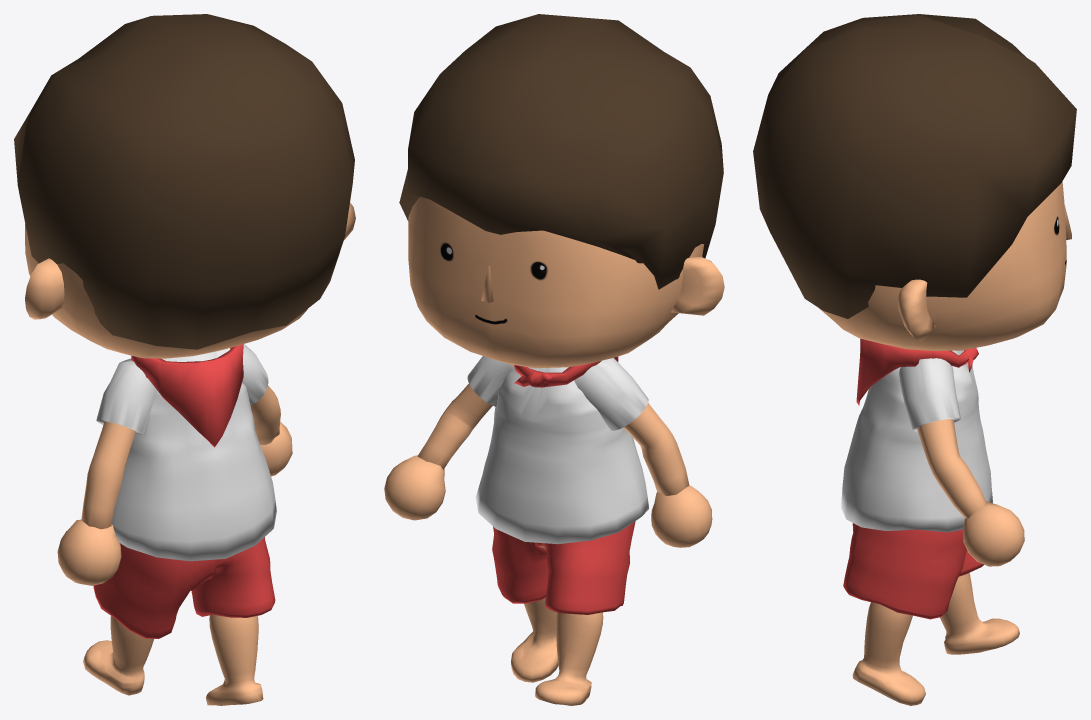
File: run.fbx
3 views of the same model, side by side, from view 1: azimuth 30°, elevation 25°; view 2: azimuth 150°, elevation 25°; view 3: azimuth 270°, elevation 25° (orthographic). The views are drawn at different scales.
Visible parts, largest first — view 1: HAIR, TSHIRT, SHORT, leg, HEAD, bandana, ARM, HAND, PAKO, PAKO2; view 2: HAIR, HEAD, TSHIRT, SHORT, leg, HAND, ARM, PAKO, PAKO2, bandana; view 3: HAIR, HEAD, TSHIRT, SHORT, leg, ARM, PAKO2, HAND, bandana.
Part boxes in pixels (bbox=[...]): HAIR: bbox=[14, 14, 354, 349]; TSHIRT: bbox=[112, 351, 276, 561]; SHORT: bbox=[93, 537, 275, 638]; leg: bbox=[83, 614, 263, 705]; HEAD: bbox=[25, 202, 355, 358]; bandana: bbox=[131, 344, 243, 447]; ARM: bbox=[81, 385, 280, 529]; HAND: bbox=[57, 421, 292, 585]; PAKO: bbox=[96, 358, 156, 435]; PAKO2: bbox=[216, 344, 268, 404]; HAIR: bbox=[399, 14, 723, 289]; HEAD: bbox=[408, 197, 724, 368]; TSHIRT: bbox=[475, 367, 648, 544]; SHORT: bbox=[492, 521, 635, 614]; leg: bbox=[511, 546, 603, 705]; HAND: bbox=[384, 455, 712, 547]; ARM: bbox=[417, 384, 689, 495]; PAKO: bbox=[574, 358, 648, 430]; PAKO2: bbox=[467, 356, 514, 406]; bandana: bbox=[513, 356, 618, 387]; HAIR: bbox=[753, 14, 1076, 318]; HEAD: bbox=[819, 181, 1071, 350]; TSHIRT: bbox=[841, 350, 992, 532]; SHORT: bbox=[843, 523, 983, 619]; leg: bbox=[852, 573, 1019, 705]; ARM: bbox=[917, 419, 986, 518]; PAKO2: bbox=[899, 358, 960, 431]; HAND: bbox=[963, 501, 1024, 566]; bandana: bbox=[856, 338, 978, 405].
Bounding box in the file's own units: 106 × 207 × 92.92.
11 materials, 1 textured.
